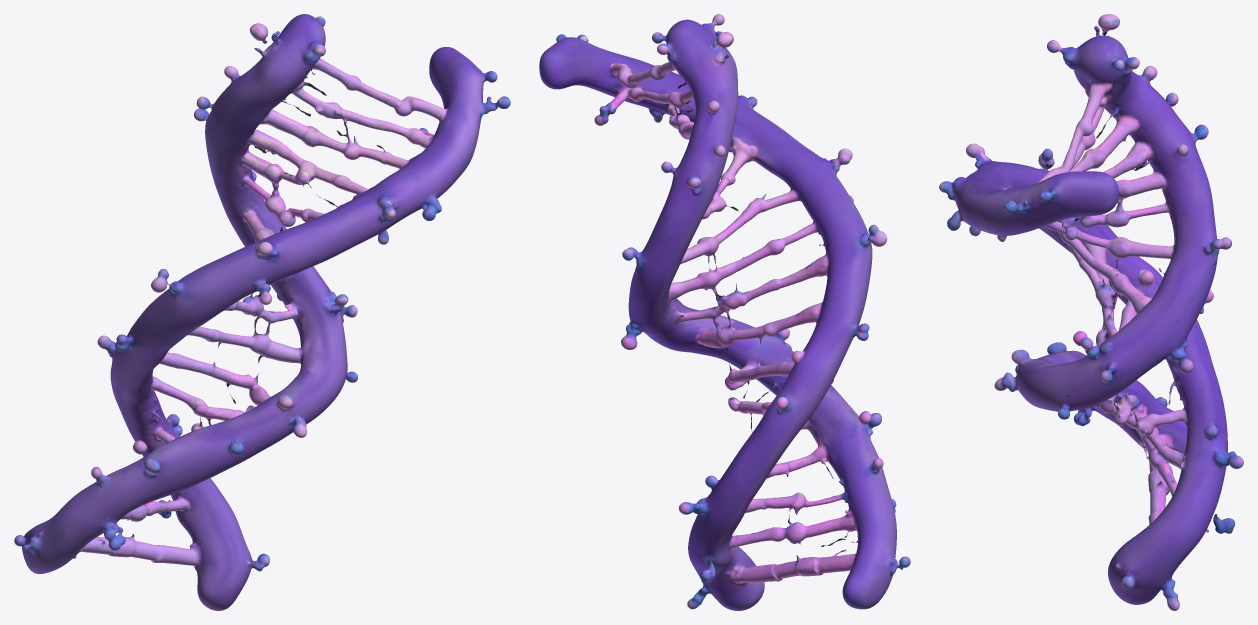
Rendered from Meshy_AI_Violet_Double_Helix_0419191547_texture.glb.
3 views of the same model, side by side, from view 1: azimuth 30°, elevation 25°; view 2: azimuth 150°, elevation 25°; view 3: azimuth 270°, elevation 25° (orthographic). The views are drawn at different scales.
Bounding box in the file's own units: 1.52 × 2 × 0.9186.
1 material, 1 textured.
